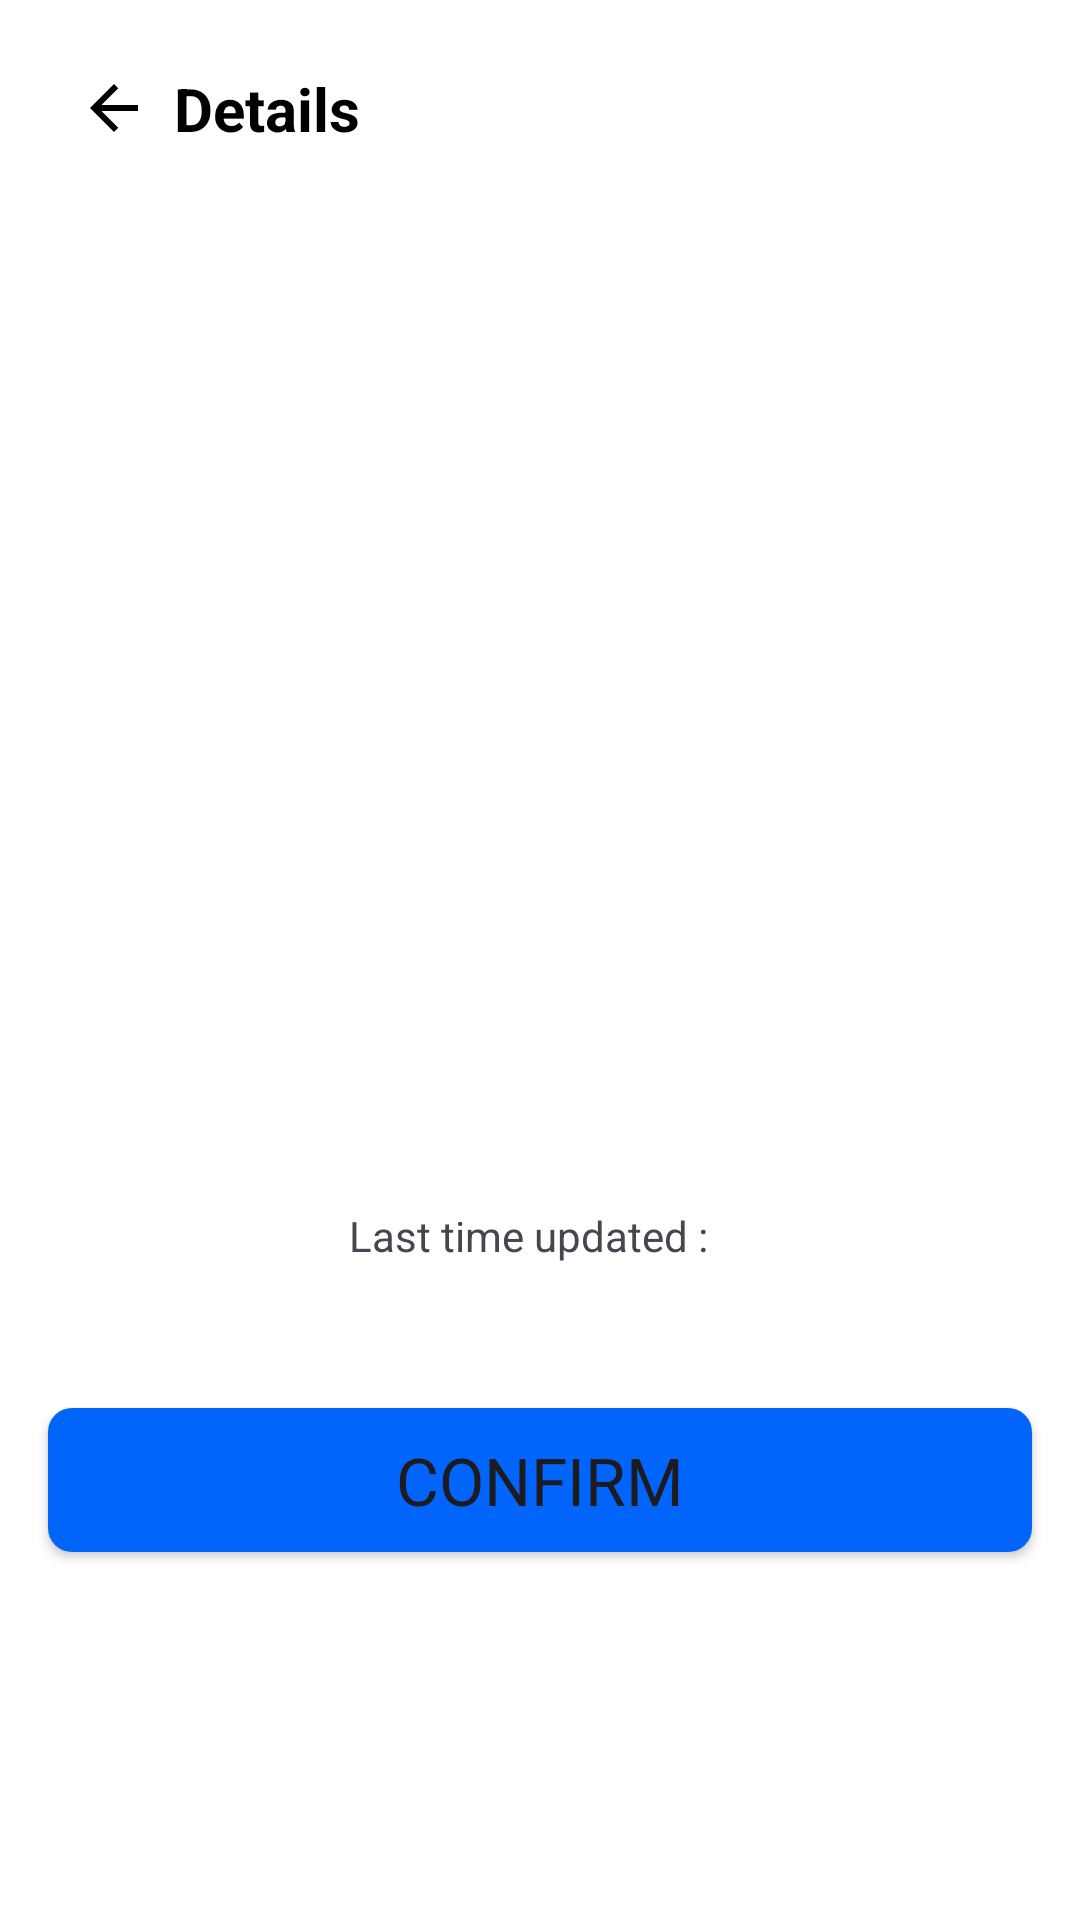

Locate icon controls on the screen. Image size 1080 × 1920, boxes as bbox(x1, y1, x2, y2).
left arrow: bbox(90, 84, 138, 132)
